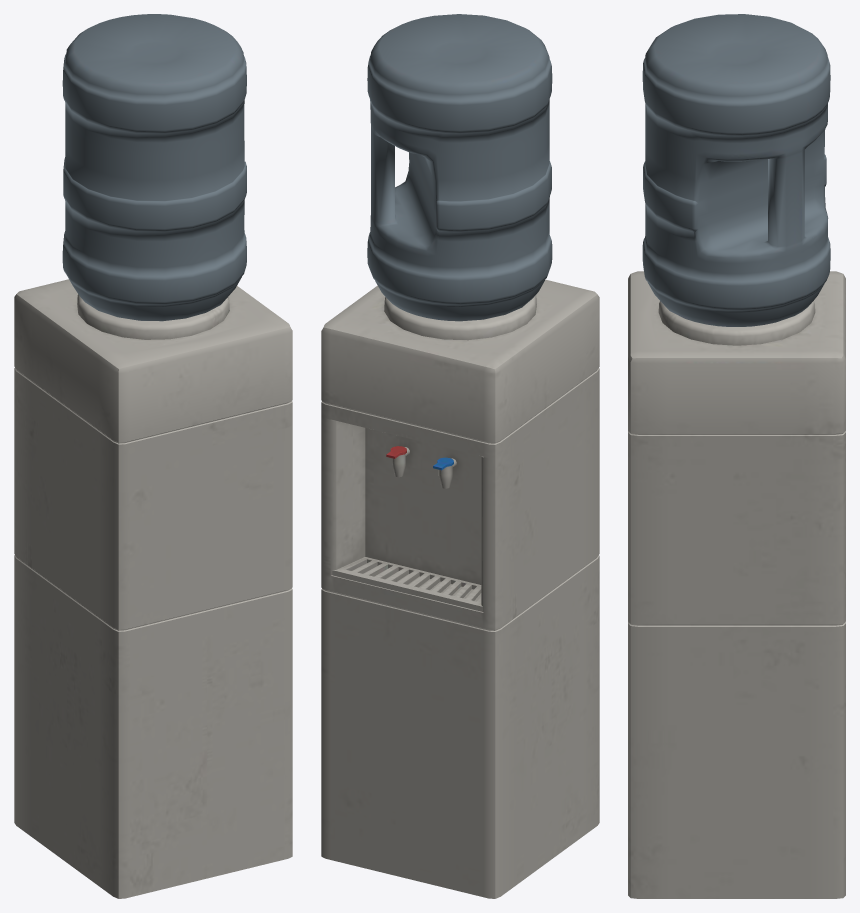
Rendered from SM_OfficeCooler.glb.
3 views of the same model, side by side, from view 1: azimuth 30°, elevation 25°; view 2: azimuth 150°, elevation 25°; view 3: azimuth 270°, elevation 25° (orthographic).
Visible parts, largest first — view 1: SM_OfficeCooler; view 2: SM_OfficeCooler; view 3: SM_OfficeCooler.
Part boxes in pixels (left/top/right/bottom): SM_OfficeCooler: left=14, top=14, right=292, bottom=898; SM_OfficeCooler: left=321, top=14, right=599, bottom=898; SM_OfficeCooler: left=628, top=14, right=845, bottom=898.
Size of the model in its own units: 0.7039 by 3 by 0.7334.
2 materials, 2 textured.
